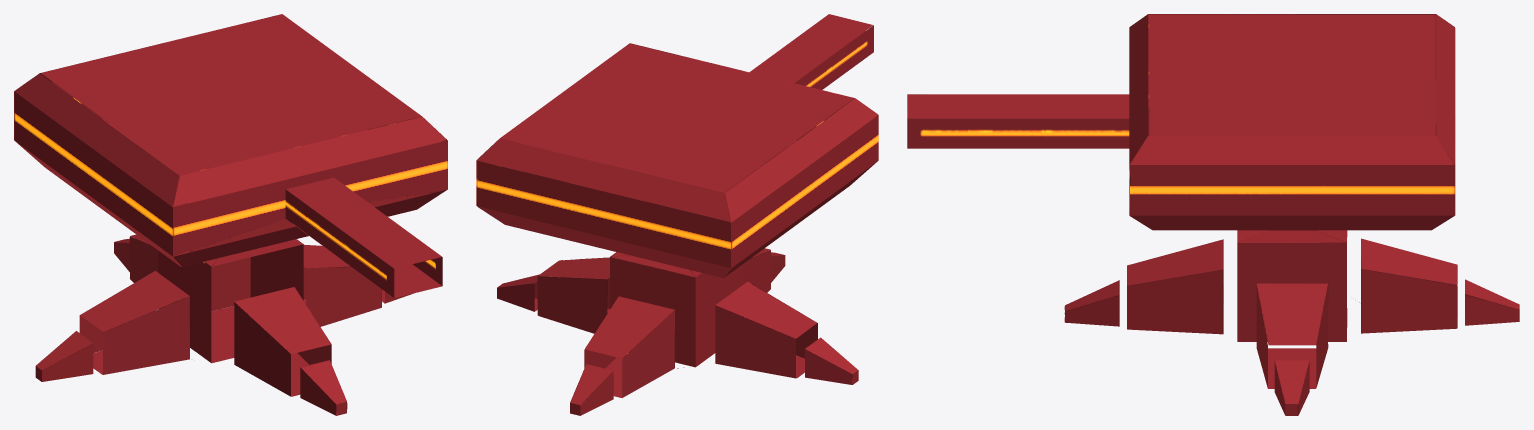
File: Turret.fbx
3 renders of one model, left to right at view 1: azimuth 30°, elevation 25°; view 2: azimuth 150°, elevation 25°; view 3: azimuth 270°, elevation 25°, orthographic. The views are drawn at different scales.
Visible parts, largest first — view 1: Cube; view 2: Cube; view 3: Cube.
Boxes of the visible parts, box(x1,y1,x2,y2) form: Cube: box(14, 14, 447, 415); Cube: box(476, 14, 878, 415); Cube: box(907, 14, 1519, 415).
Size of the model in its own units: 831 by 494 by 1119.
Materials: 1 (1 with a texture image).
